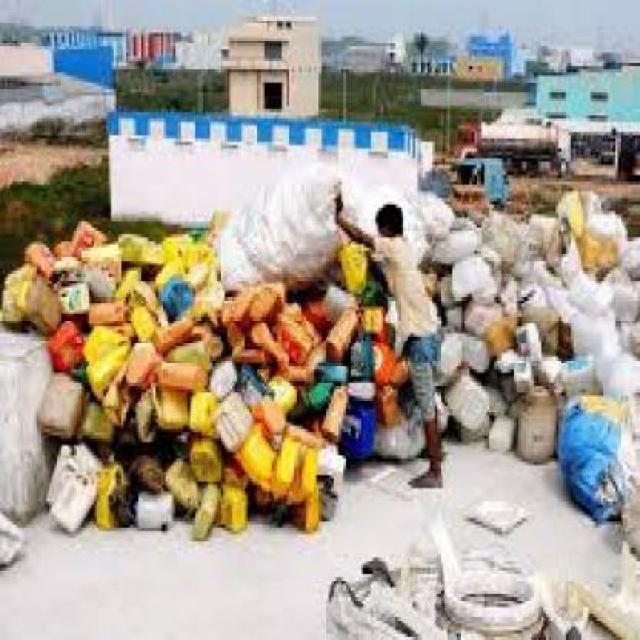garbage: (3, 211, 329, 610), (423, 162, 638, 340), (337, 521, 638, 636), (440, 349, 638, 518), (337, 237, 388, 501), (235, 156, 334, 215), (391, 360, 421, 449)
